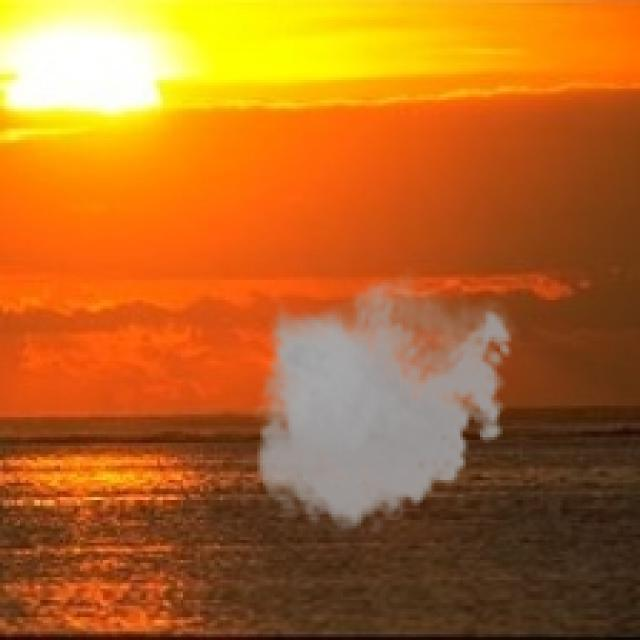Smoke: (245, 266, 520, 540)
